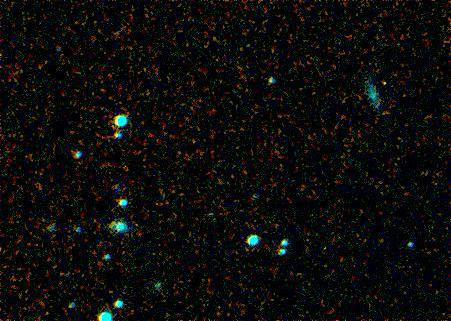star: (369, 69, 399, 99)
